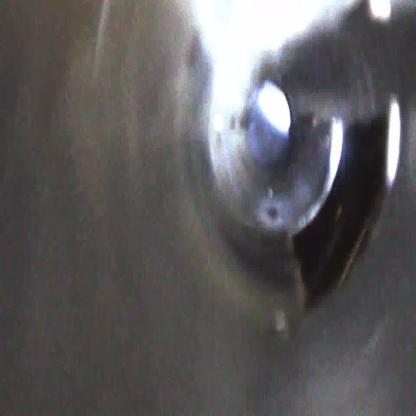Crack2: (290, 114, 390, 314)
